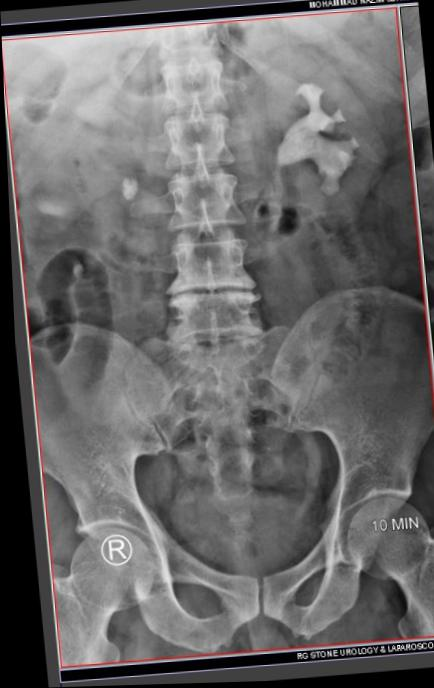left kidney: (253, 24, 385, 240)
vertebrae: (147, 52, 221, 112)
